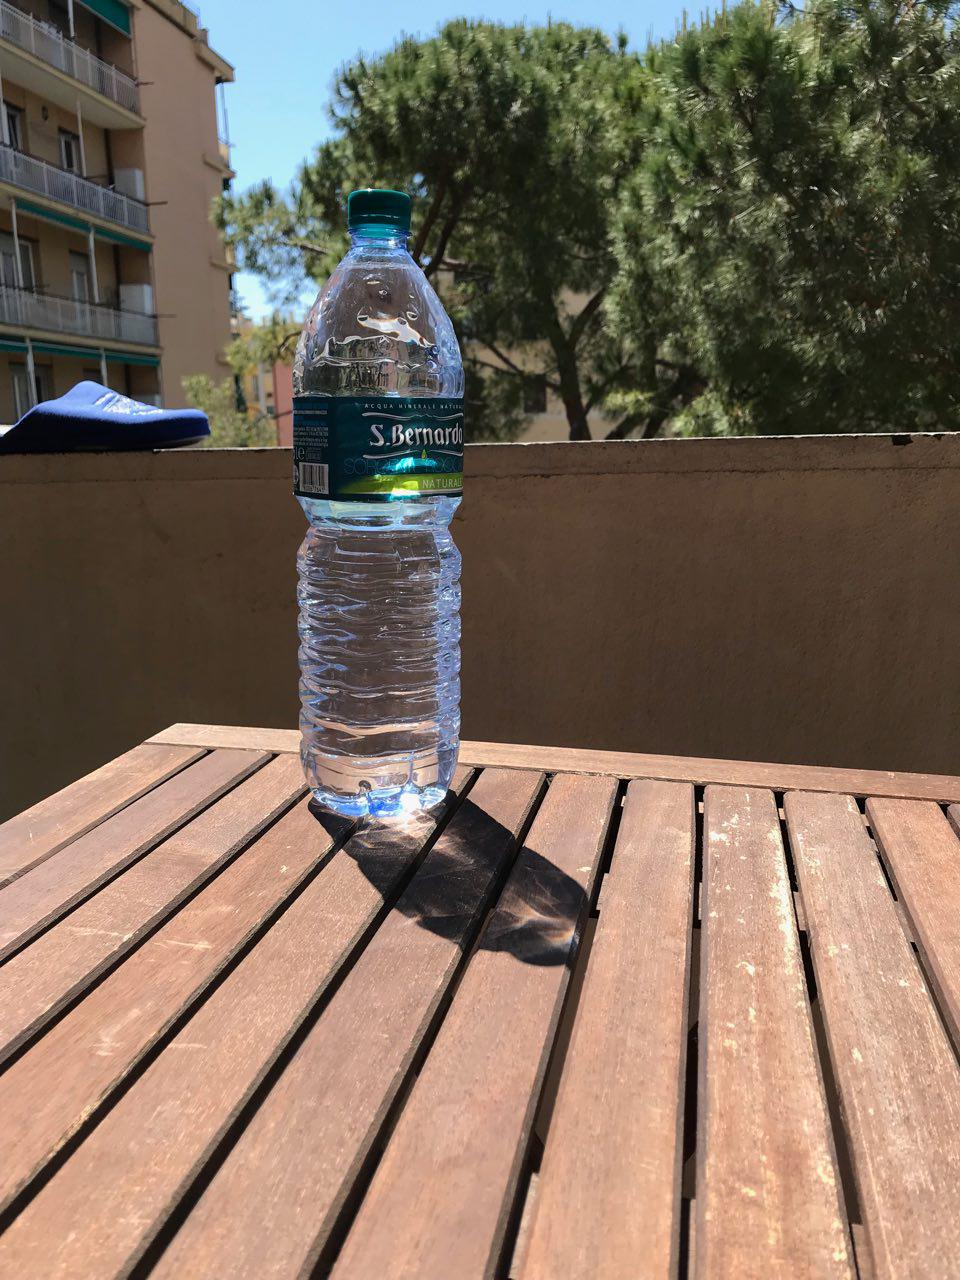san_bernardo: (291, 189, 466, 817)
